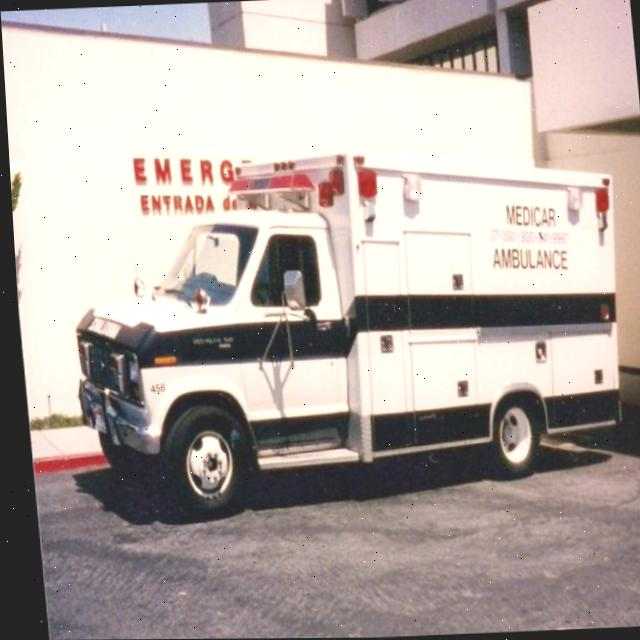emergency: (45, 137, 640, 538)
